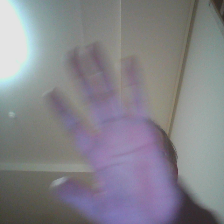hand: (47, 39, 182, 224)
